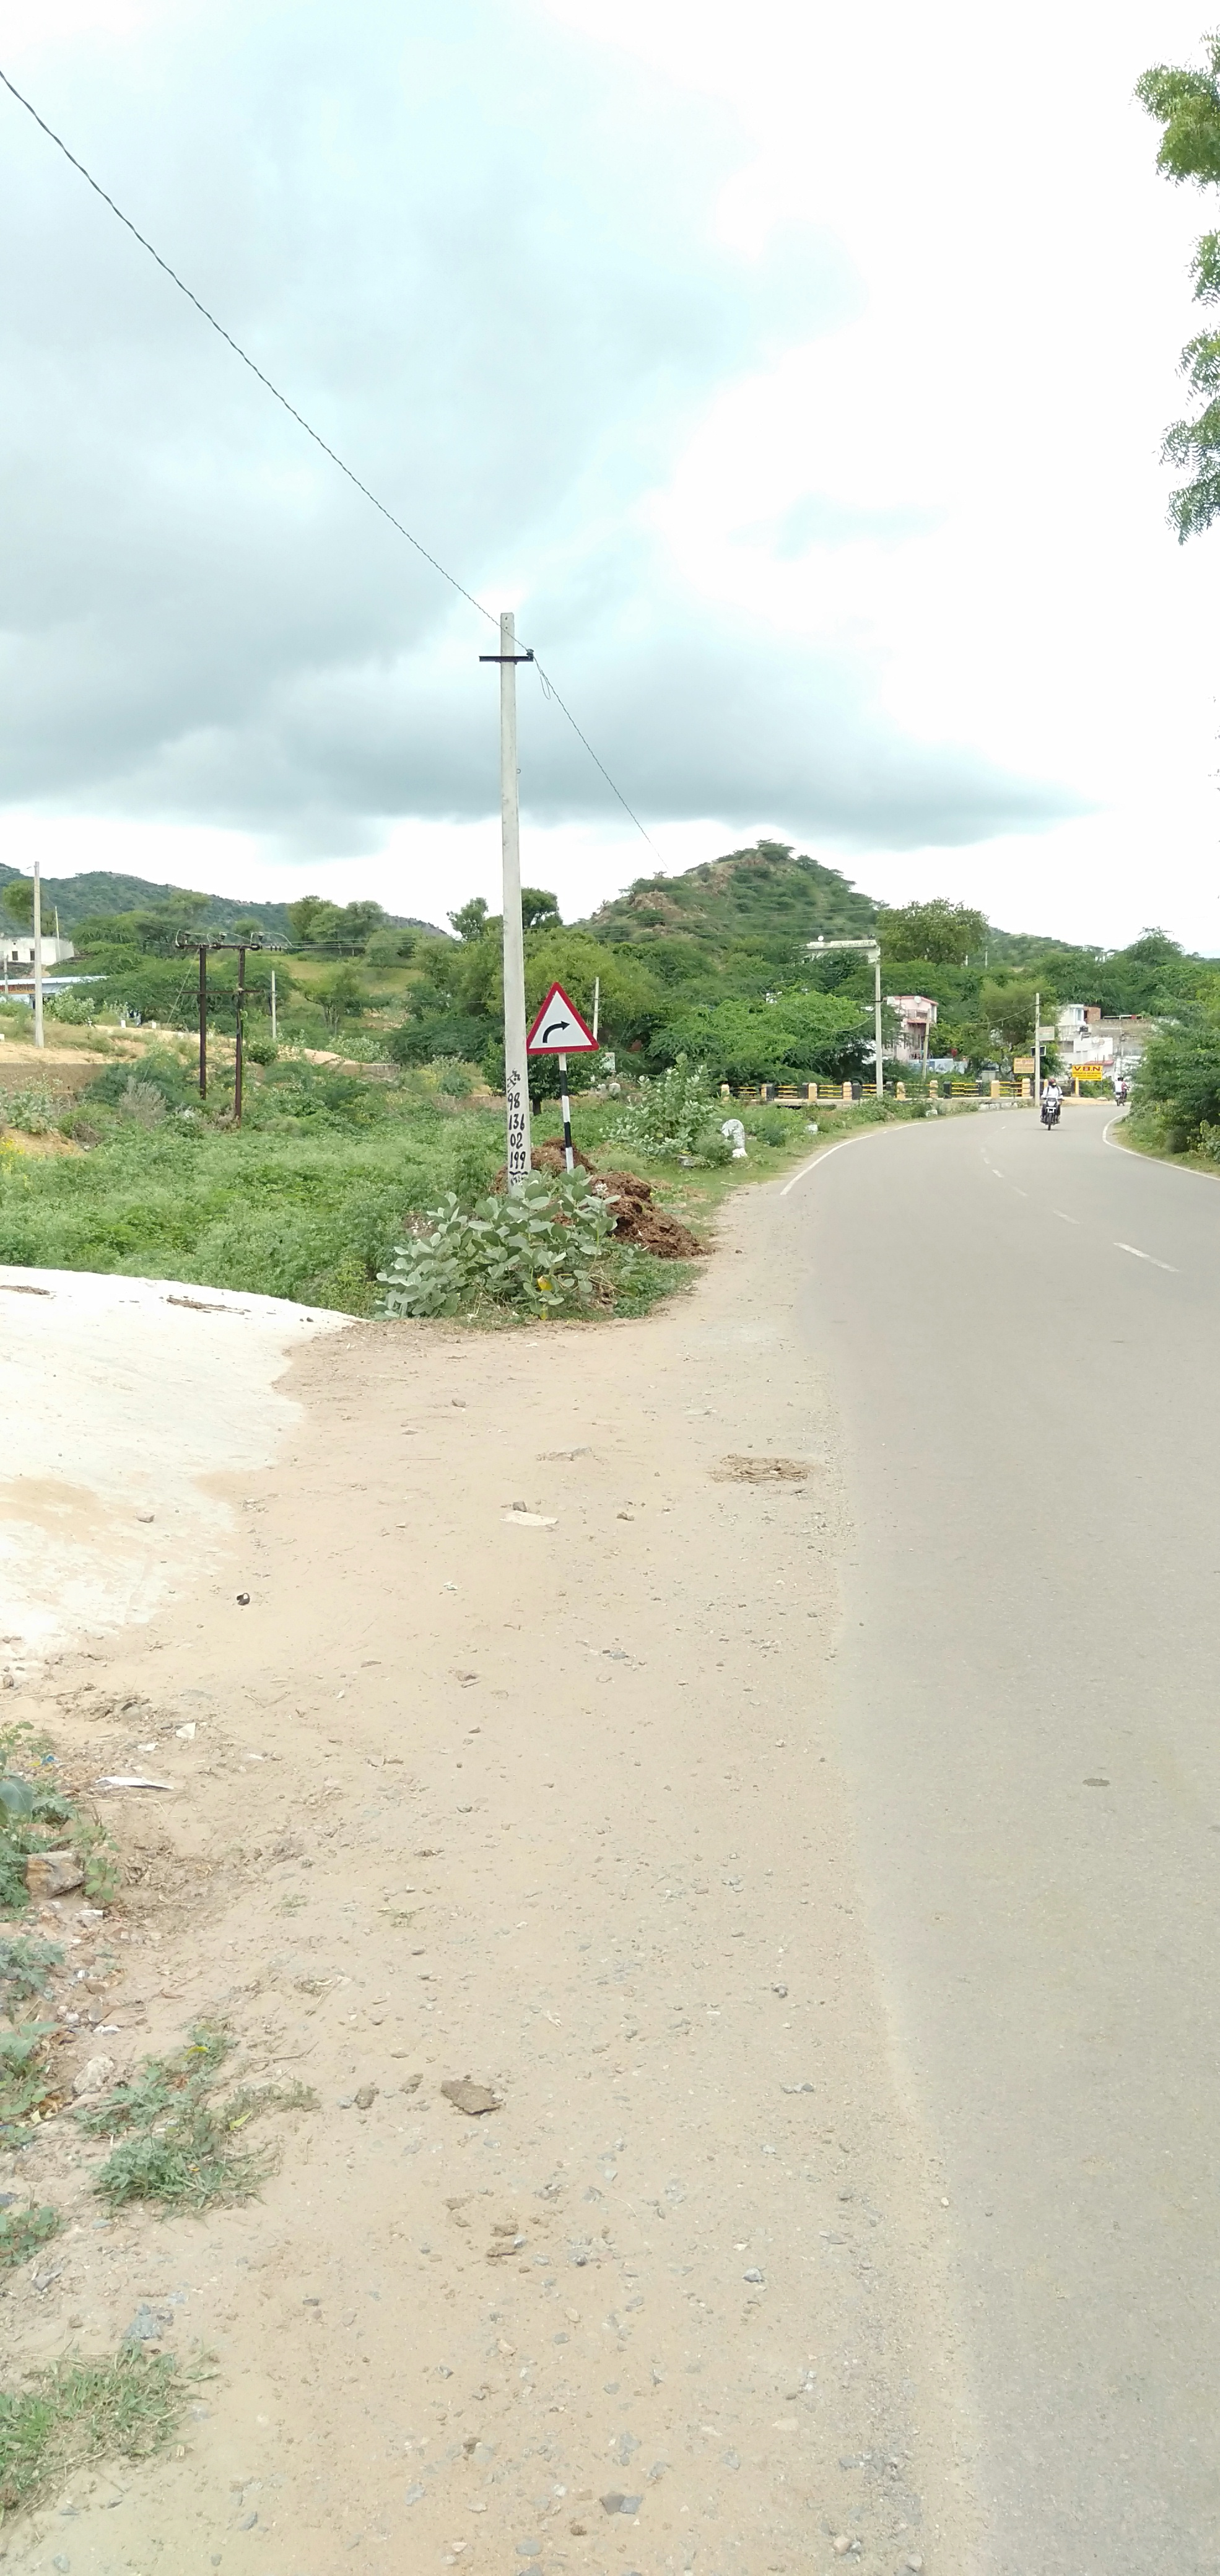traffic_sign: (525, 981, 599, 1055)
